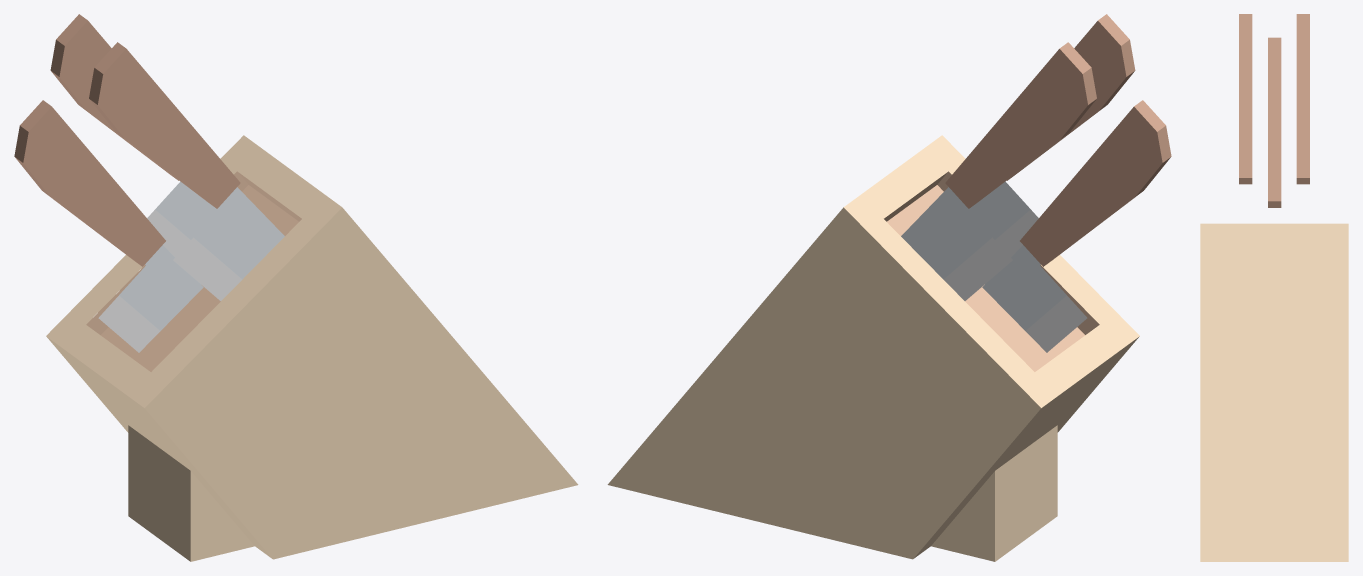
File: knife-block.glb
3 views of the same model, side by side, from view 1: azimuth 30°, elevation 25°; view 2: azimuth 150°, elevation 25°; view 3: azimuth 270°, elevation 25° (orthographic). The views are drawn at different scales.
Visible parts, largest first — view 1: knifeBlock, cookingKnife (×3); view 2: knifeBlock, cookingKnife (×3); view 3: knifeBlock, cookingKnife (×3).
Boxes of the visible parts, <box> form: knifeBlock: <box>46,135,578,561</box>; cookingKnife (×3): <box>14,14,284,352</box>; knifeBlock: <box>607,135,1139,561</box>; cookingKnife (×3): <box>901,14,1171,352</box>; knifeBlock: <box>1200,223,1348,561</box>; cookingKnife (×3): <box>1239,14,1309,207</box>.
Size of the model in its own units: 0.6628 by 0.6472 by 0.2219.
